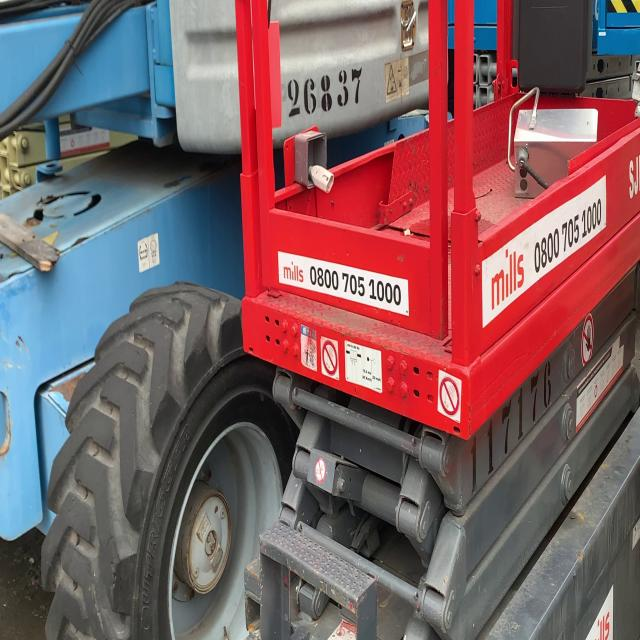Adesivo Longo: (481, 173, 609, 332), (277, 249, 410, 319)
